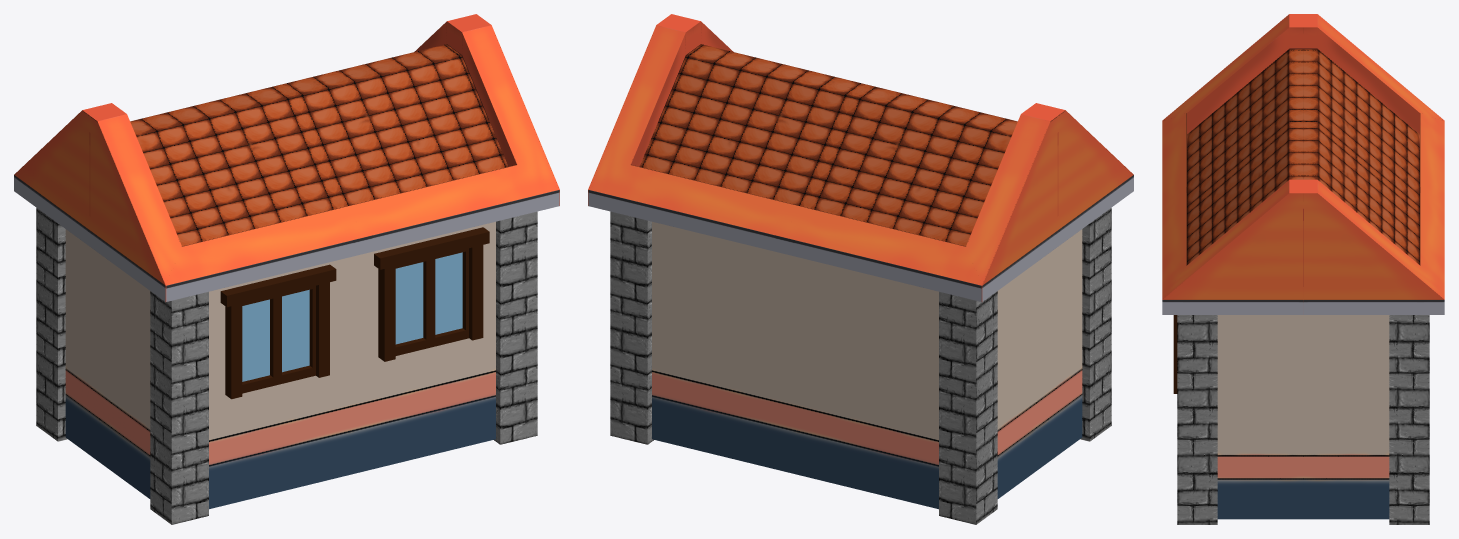
The model's file is pokehouse1.fbx.
The picture shows the model from 3 angles, left to right: view 1: azimuth 30°, elevation 25°; view 2: azimuth 150°, elevation 25°; view 3: azimuth 270°, elevation 25°; orthographic projection. The views are drawn at different scales.
Parts seen in each view (by area): view 1: Roof, Cube, Pillars, WindowGlass.001, WindowGlass, WindowMain.001, WindowMain, Window-Top, Window-Top.001, WindowSideL, WindowSideL.001, WindowSideR.001 (+1 smaller); view 2: Roof, Cube, Pillars; view 3: Roof, Cube, Pillars, WindowSideR.001.
Part boxes in pixels (x1,y1,x2,y2): Roof: (14, 14, 559, 301); Cube: (65, 221, 495, 509); Pillars: (36, 208, 537, 524); WindowGlass.001: (395, 252, 462, 344); WindowGlass: (242, 289, 309, 381); WindowMain.001: (395, 248, 468, 355); WindowMain: (242, 285, 315, 393); Window-Top: (220, 264, 336, 307); Window-Top.001: (374, 227, 489, 269); WindowSideL: (225, 303, 242, 399); WindowSideL.001: (378, 266, 395, 361); WindowSideR.001: (469, 245, 483, 340); Roof: (588, 14, 1133, 301); Cube: (652, 221, 1082, 509); Pillars: (610, 208, 1111, 524); Roof: (1162, 14, 1444, 314); Cube: (1217, 315, 1389, 519); Pillars: (1177, 315, 1429, 524); WindowSideR.001: (1173, 315, 1177, 393).
Size of the model in its own units: 360 by 317 by 240.
